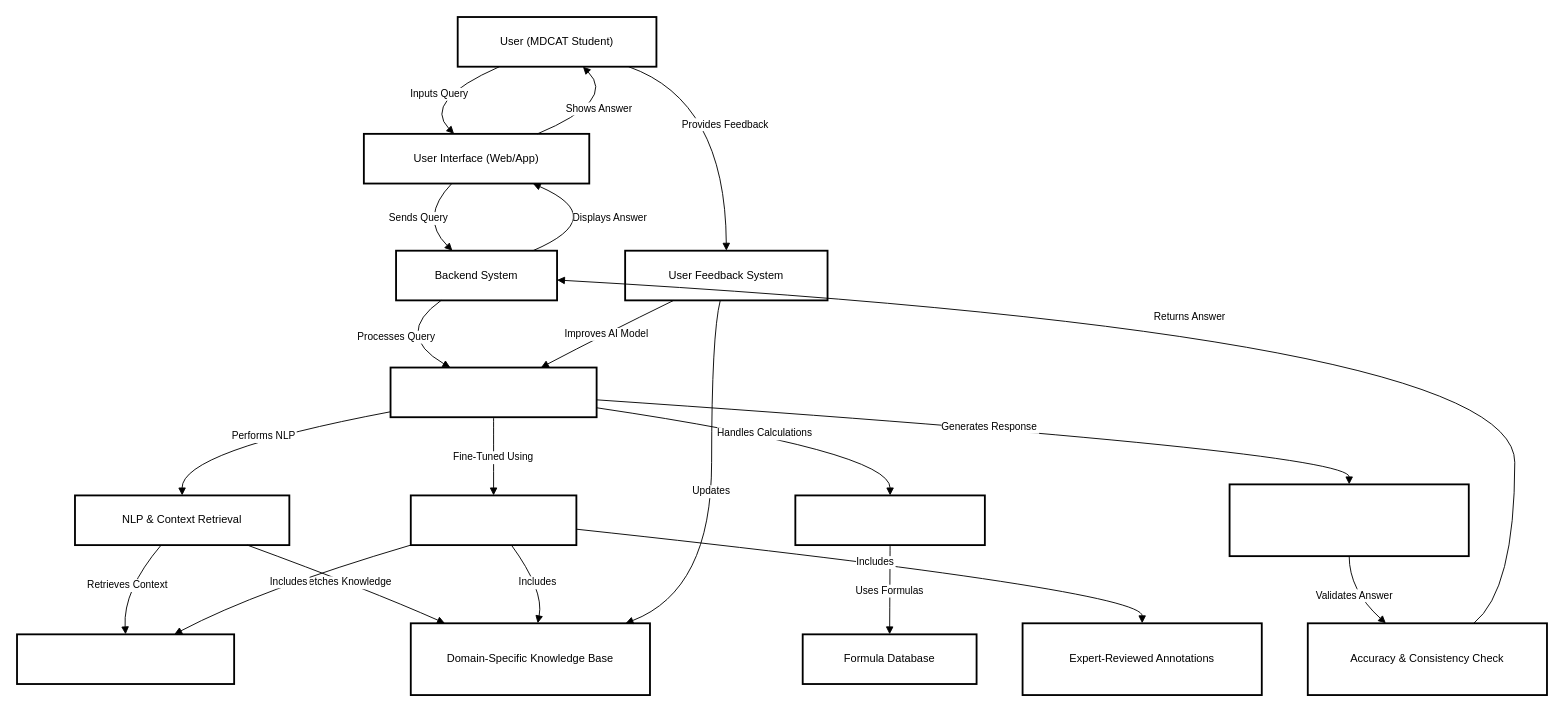
The diagram is 1563 pixels wide and 711 high, and some of its shapes have lost their labels. Each missing label, with the centre of its shape:
"AceMed AI (LLM Model)" goes at point 493,392.
"Answer Generation & Validation" goes at point 1348,520.
"Fine-Tuning Data" goes at point 493,520.
"FSC Federal Board Books" goes at point 125,658.
"Mathematical Solver" goes at point 889,520.
